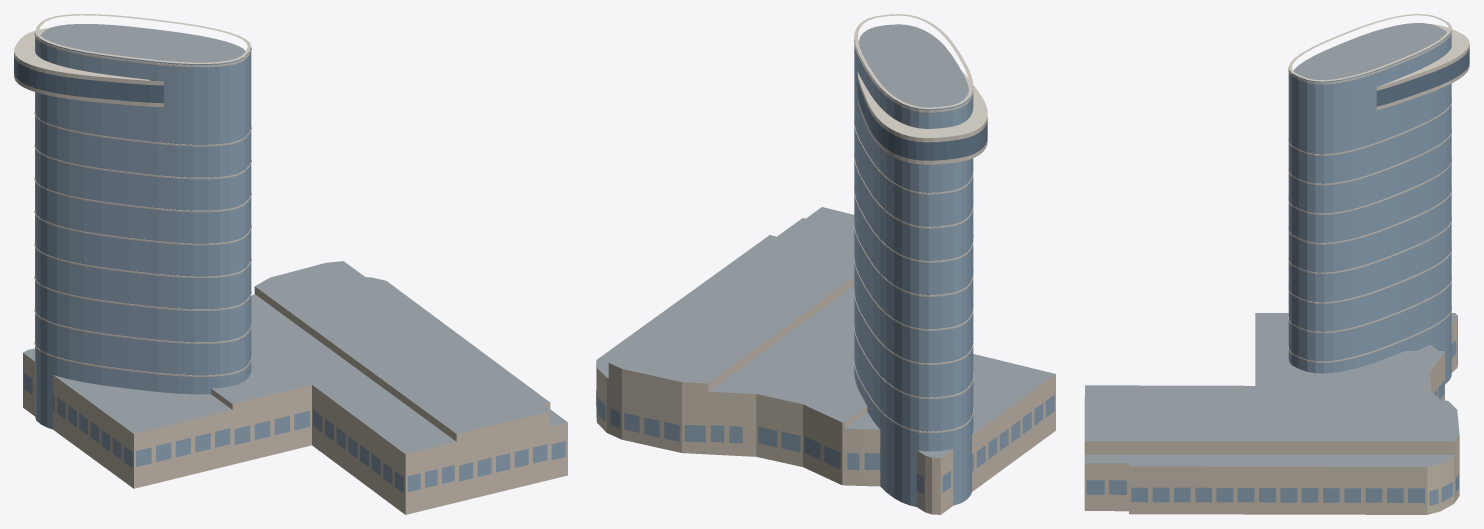
File: nash-jw-marriott.glb
3 views of the same model, side by side, from view 1: azimuth 30°, elevation 25°; view 2: azimuth 150°, elevation 25°; view 3: azimuth 270°, elevation 25° (orthographic). The views are drawn at different scales.
Visible parts, largest first — view 1: JW Marriott Nashville; view 2: JW Marriott Nashville; view 3: JW Marriott Nashville.
Boxes of the visible parts, x1,y1,x2,y2 form: JW Marriott Nashville: (14, 14, 567, 514); JW Marriott Nashville: (596, 14, 1055, 514); JW Marriott Nashville: (1084, 14, 1469, 514).
Size of the model in its own units: 120 by 119 by 120.
